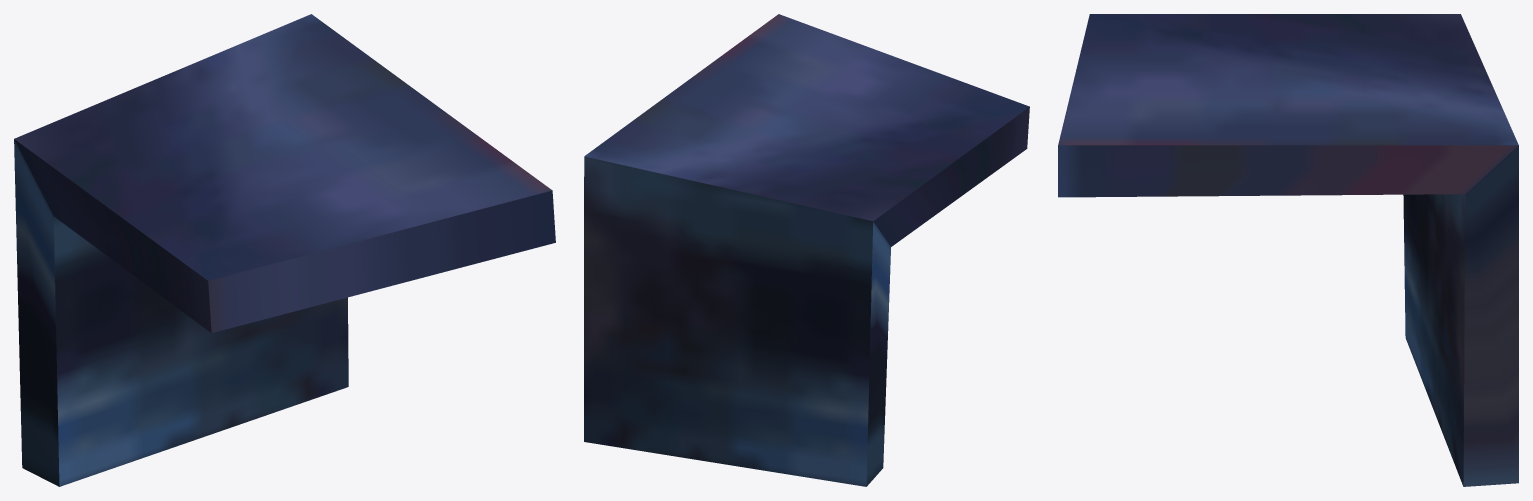
Rendered from Shared - Ground Vehicles - Big Rig - Damage State 03 - CVBigRig_d03.glb.
3 views of the same model, side by side, from view 1: azimuth 30°, elevation 25°; view 2: azimuth 150°, elevation 25°; view 3: azimuth 270°, elevation 25° (orthographic). The views are drawn at different scales.
Parts seen in each view (by area): view 1: CVBIGRIG_D03; view 2: CVBIGRIG_D03; view 3: CVBIGRIG_D03.
Boxes of the visible parts, x1,y1,x2,y2 form: CVBIGRIG_D03: (14,14,555,486); CVBIGRIG_D03: (584,14,1029,486); CVBIGRIG_D03: (1058,14,1518,486).
Bounding box in the file's own units: 3.28 × 3.3 × 4.07.
1 material, 1 textured.
